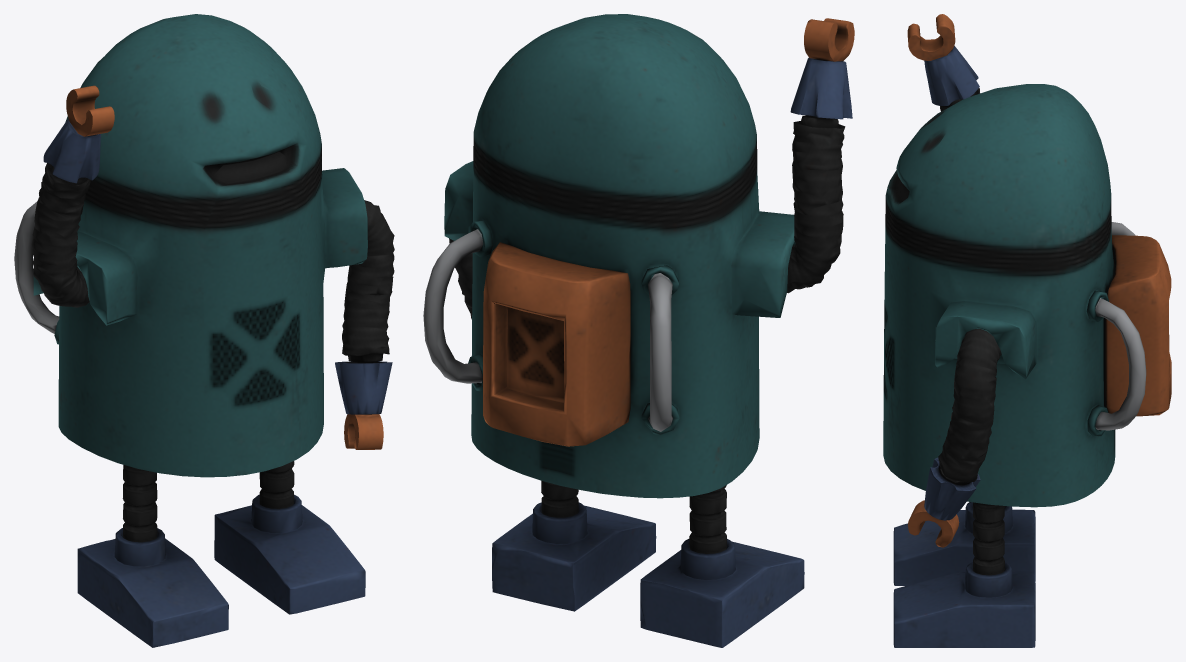
The model's file is Toy Robot 1.fbx.
The picture shows the model from 3 angles, left to right: view 1: azimuth 30°, elevation 25°; view 2: azimuth 150°, elevation 25°; view 3: azimuth 270°, elevation 25°; orthographic projection. The views are drawn at different scales.
Visible parts, largest first — view 1: Toy_Robot_1_Base, Toy_Robot_1_Right_Arm, Toy_Robot_1_Left_Arm; view 2: Toy_Robot_1_Base, Toy_Robot_1_Right_Arm, Toy_Robot_1_Left_Arm; view 3: Toy_Robot_1_Base, Toy_Robot_1_Left_Arm, Toy_Robot_1_Right_Arm.
Part boxes in pixels (bbox=[...]): Toy_Robot_1_Base: bbox=[14, 14, 367, 647]; Toy_Robot_1_Right_Arm: bbox=[31, 85, 114, 307]; Toy_Robot_1_Left_Arm: bbox=[335, 200, 394, 449]; Toy_Robot_1_Base: bbox=[423, 14, 804, 647]; Toy_Robot_1_Right_Arm: bbox=[787, 18, 854, 293]; Toy_Robot_1_Left_Arm: bbox=[449, 238, 472, 319]; Toy_Robot_1_Base: bbox=[883, 84, 1171, 647]; Toy_Robot_1_Left_Arm: bbox=[908, 328, 1001, 547]; Toy_Robot_1_Right_Arm: bbox=[907, 14, 980, 111].
Size of the model in its own units: 19.99 by 29.52 by 15.03.
1 material, 1 textured.
